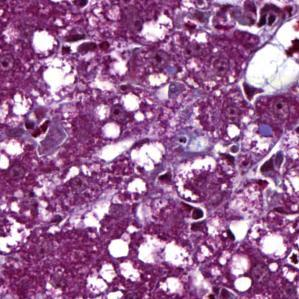ballooning: (238, 40, 299, 112), (127, 137, 169, 176)
